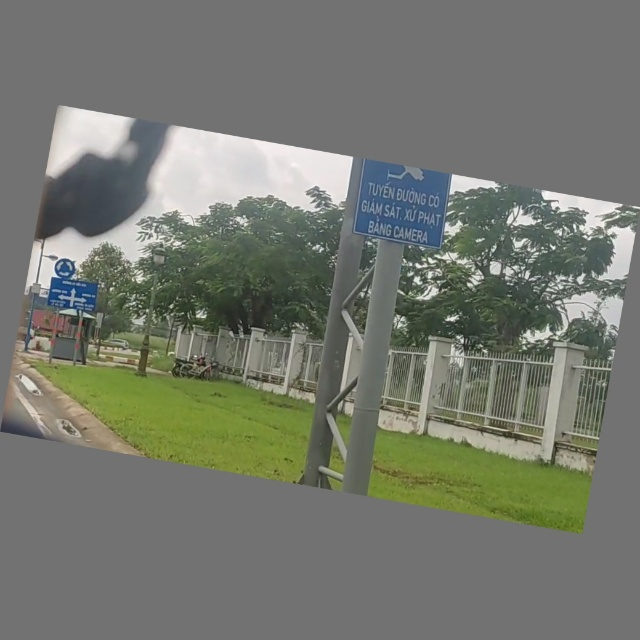R.303: (52, 255, 79, 281)
